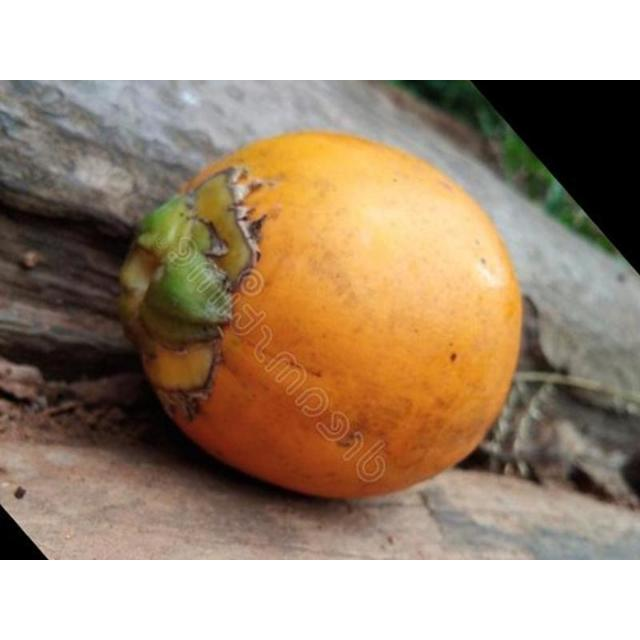good: (118, 131, 524, 503)
